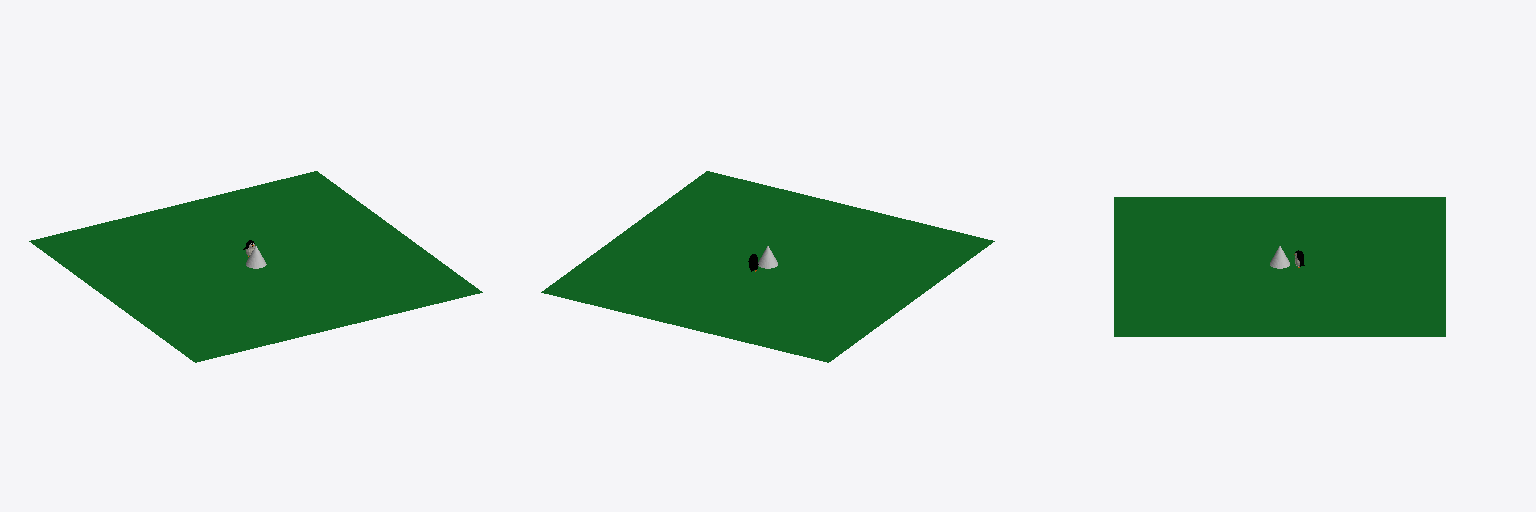
Rendered from penguin.obj.
3 renders of one model, left to right at view 1: azimuth 30°, elevation 25°; view 2: azimuth 150°, elevation 25°; view 3: azimuth 270°, elevation 25°, orthographic.
Parts seen in each view (by area): view 1: Plane; view 2: Plane; view 3: Plane.
Part boxes in pixels (x1,y1,x2,y2): Plane: (29,171,482,362); Plane: (541,171,994,362); Plane: (1114,197,1445,336).
Bounding box in the file's own units: 66.15 × 4.77 × 66.15.